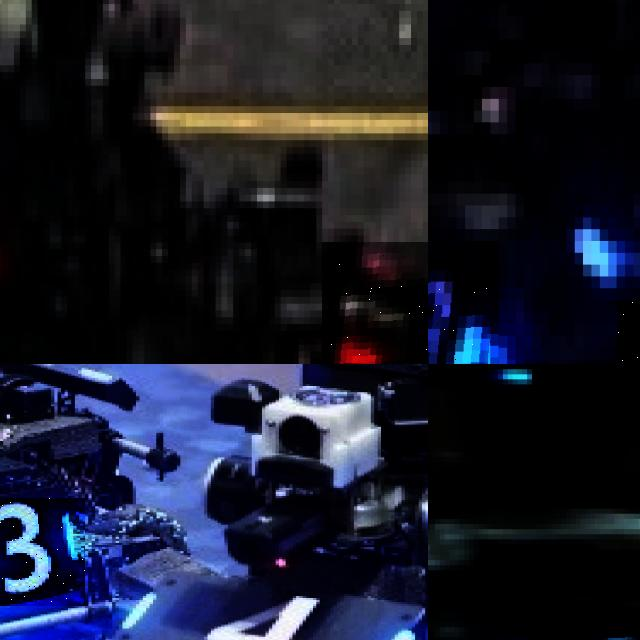B3: (0, 498, 85, 606), (428, 252, 498, 364)
B4: (125, 581, 418, 640)
R1: (322, 242, 428, 364)
